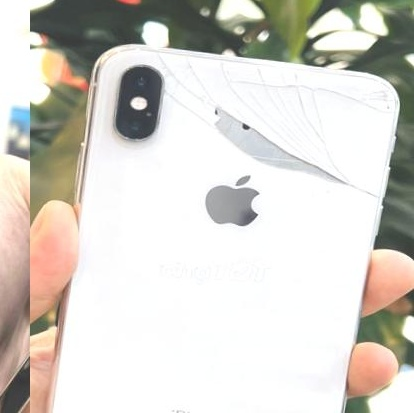physical_damage: (222, 57, 397, 122), (108, 41, 229, 106), (188, 105, 301, 165), (301, 147, 395, 216), (244, 153, 309, 189)
